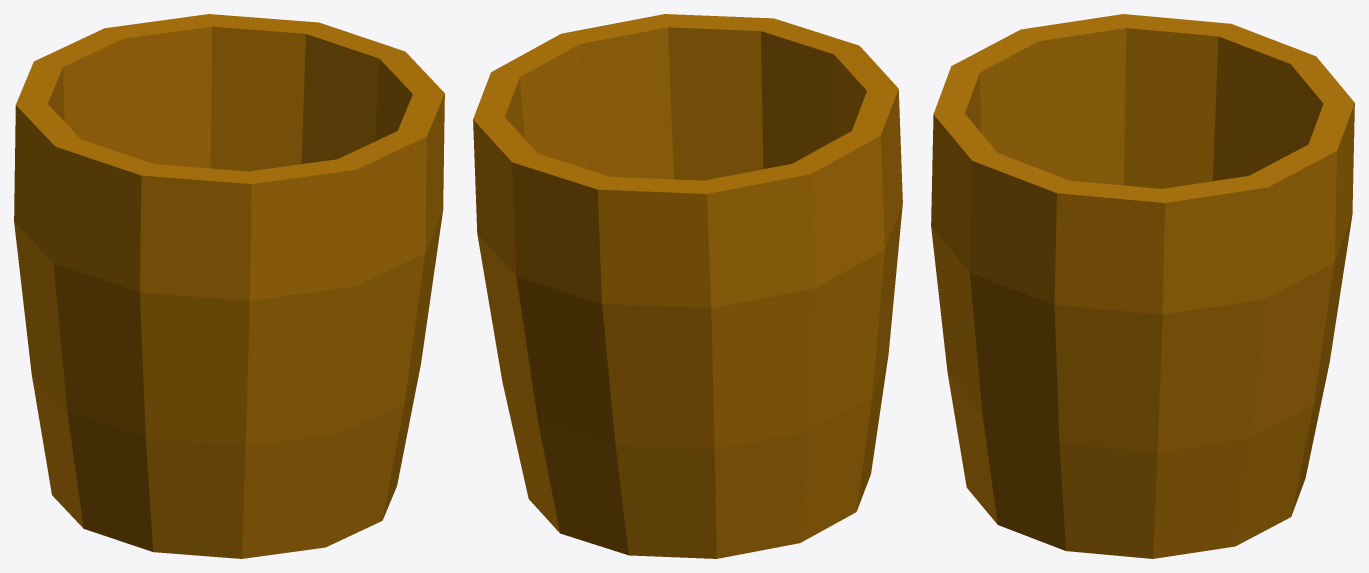
File: cup_01.fbx
The picture shows the model from 3 angles, left to right: view 1: azimuth 30°, elevation 25°; view 2: azimuth 150°, elevation 25°; view 3: azimuth 270°, elevation 25°; orthographic projection.
Visible parts, largest first — view 1: cup; view 2: cup; view 3: cup.
Boxes of the visible parts, x1,y1,x2,y2 form: cup: (14, 14, 444, 558); cup: (473, 14, 902, 558); cup: (931, 14, 1354, 558).
Size of the model in its own units: 24.44 by 24.81 by 24.39.
